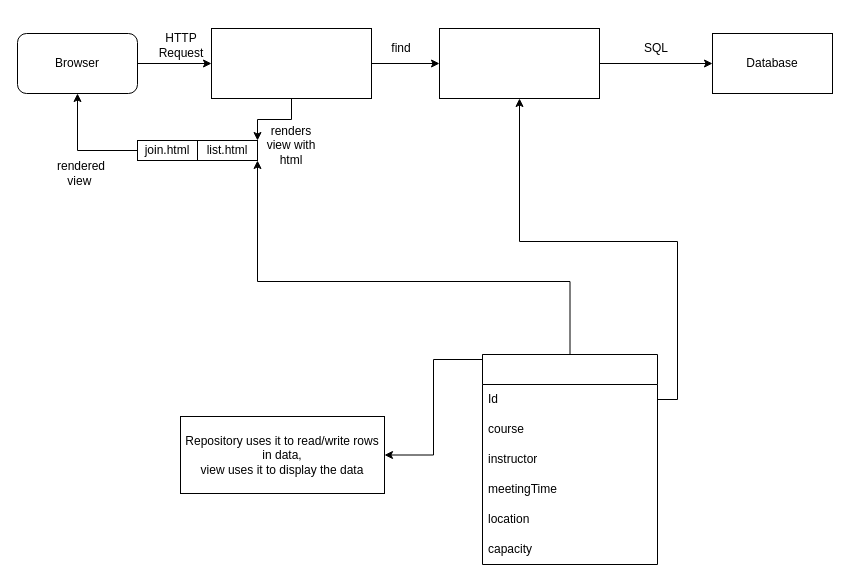
The diagram is 850 pixels wide and 582 high, and some of its shapes have lost their labels. The shapes that lost their labels are listed below. From the top down, each one's box as (x1, y1, x2, y2) in pixels, then its label:
(210, 28, 372, 98): StudyGroupController
(438, 28, 600, 98): StudyGroupRepository
(482, 354, 658, 564): Domain class: StudyGroupFinder
